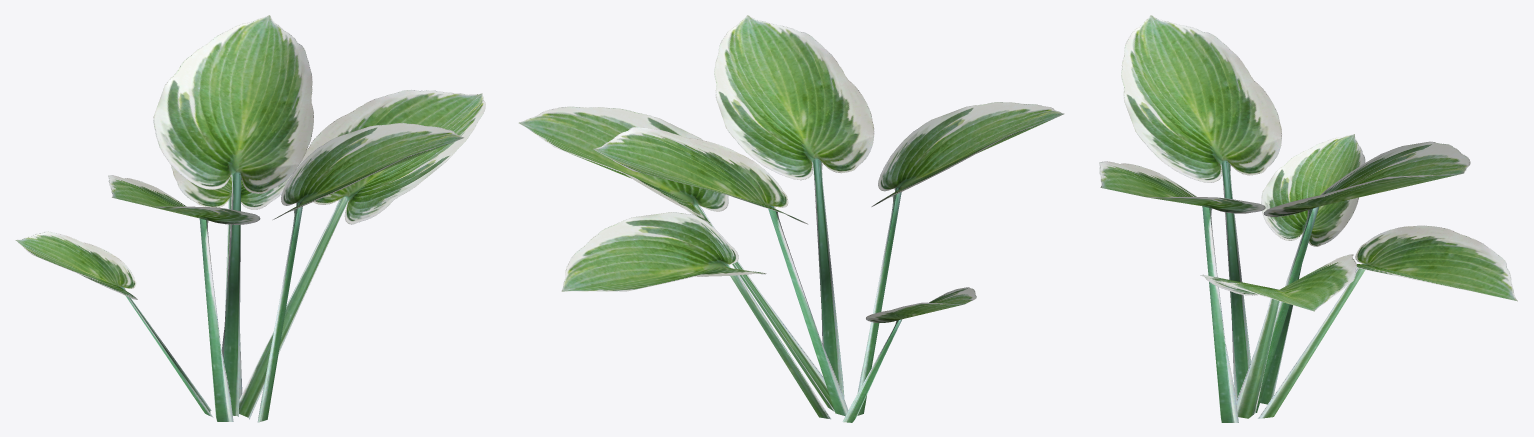
The model's file is plant_small_wg_05K.fbx.
3 views of the same model, side by side, from view 1: azimuth 30°, elevation 25°; view 2: azimuth 150°, elevation 25°; view 3: azimuth 270°, elevation 25° (orthographic). The views are drawn at different scales.
Parts seen in each view (by area): view 1: plant_small_wg_05K; view 2: plant_small_wg_05K; view 3: plant_small_wg_05K.
Boxes of the visible parts, x1,y1,x2,y2 form: plant_small_wg_05K: (15, 15, 485, 422); plant_small_wg_05K: (519, 15, 1064, 422); plant_small_wg_05K: (1099, 15, 1517, 422).
Size of the model in its own units: 63.58 by 39.62 by 49.19.
